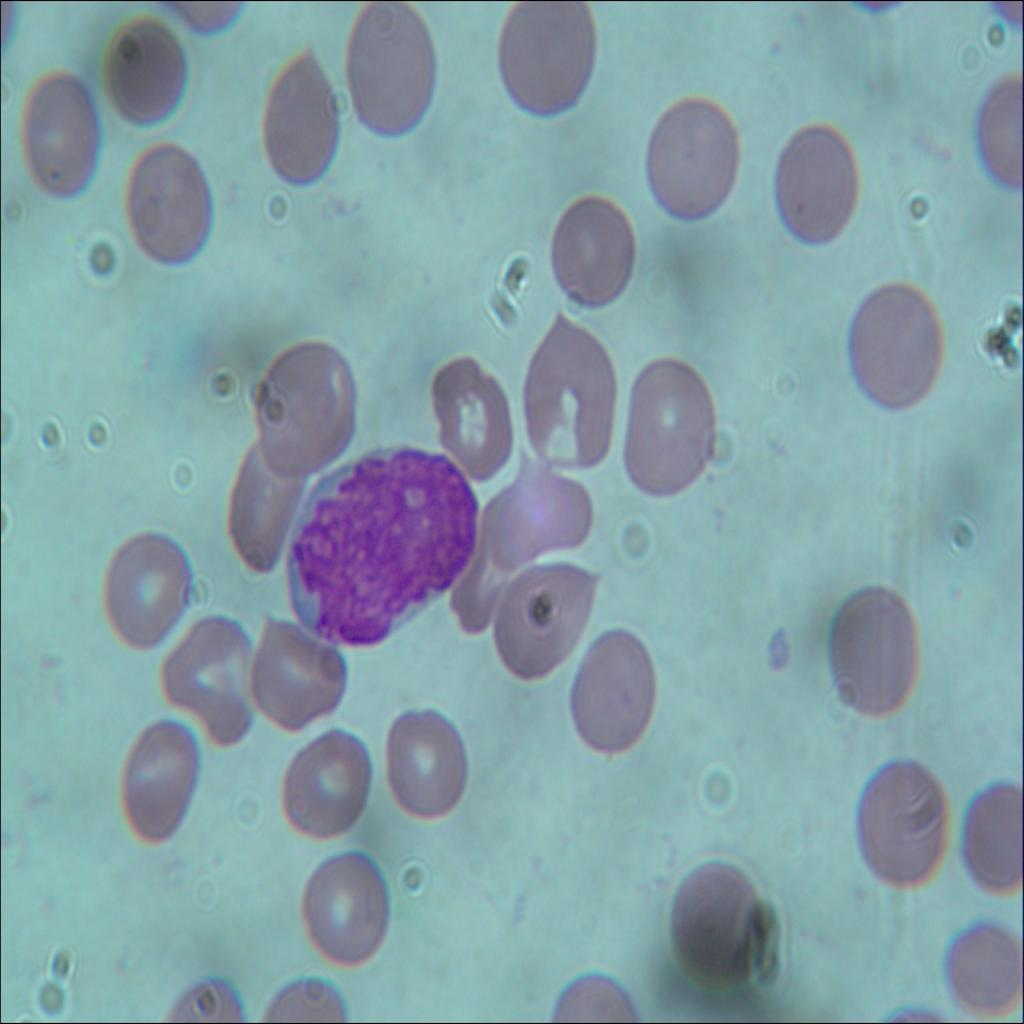Eritrosit: (518, 310, 620, 465), (479, 559, 601, 685), (843, 272, 944, 423), (244, 337, 358, 470), (828, 568, 922, 726), (622, 349, 718, 500), (851, 754, 951, 895), (562, 618, 658, 764), (124, 141, 222, 284), (8, 61, 103, 208), (239, 602, 346, 730), (344, 1, 443, 139), (643, 92, 742, 230), (296, 844, 402, 970), (491, 1, 599, 124), (221, 425, 306, 580), (254, 52, 343, 198), (539, 192, 635, 321), (95, 12, 195, 131), (274, 718, 371, 837), (776, 118, 862, 252), (671, 860, 762, 986), (478, 467, 598, 562), (103, 524, 189, 655), (424, 354, 511, 481), (382, 705, 471, 826), (166, 610, 253, 732), (114, 722, 200, 845), (950, 922, 1024, 1020)
Limfoblast: (275, 438, 482, 639)
Platelet: (766, 622, 796, 677)
